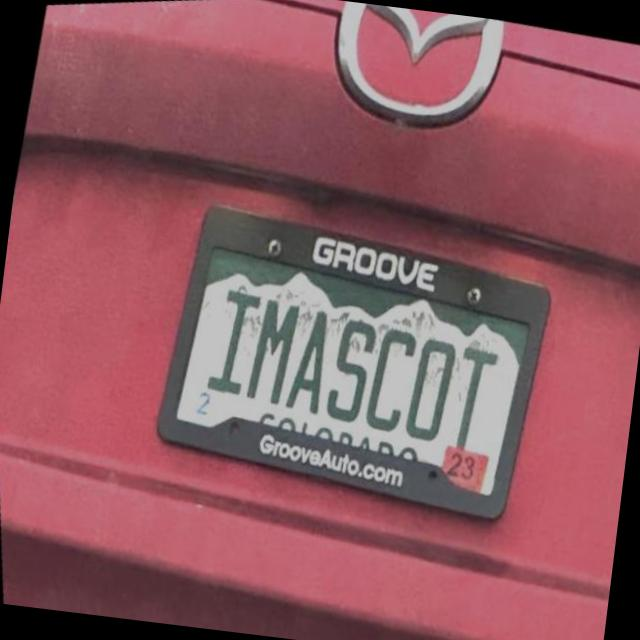LicensePlate: (151, 203, 550, 521)
